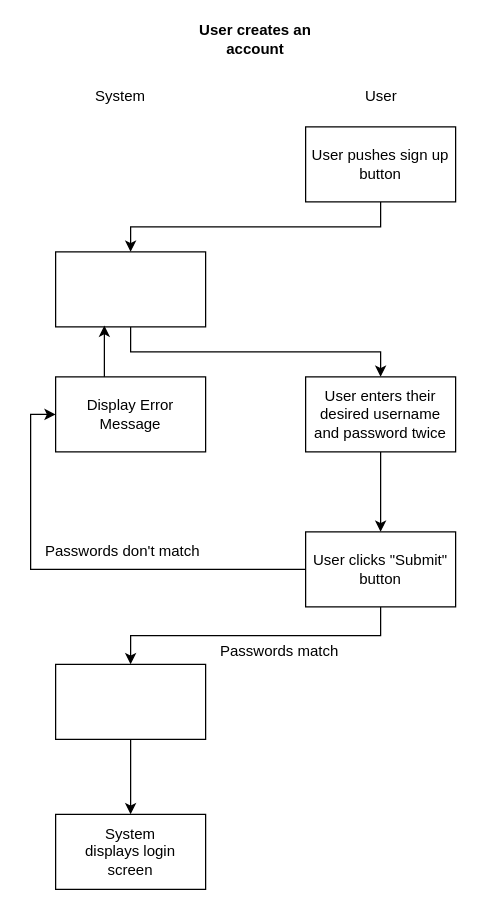
Some shapes in this 478 by 911 pixel diagram are drawn without their labels. The centre of each missing label's shape, as x and y in pixels:
System creates user and saves to the users file: point 130,701
System displays "New user creation" screen: point 130,289
